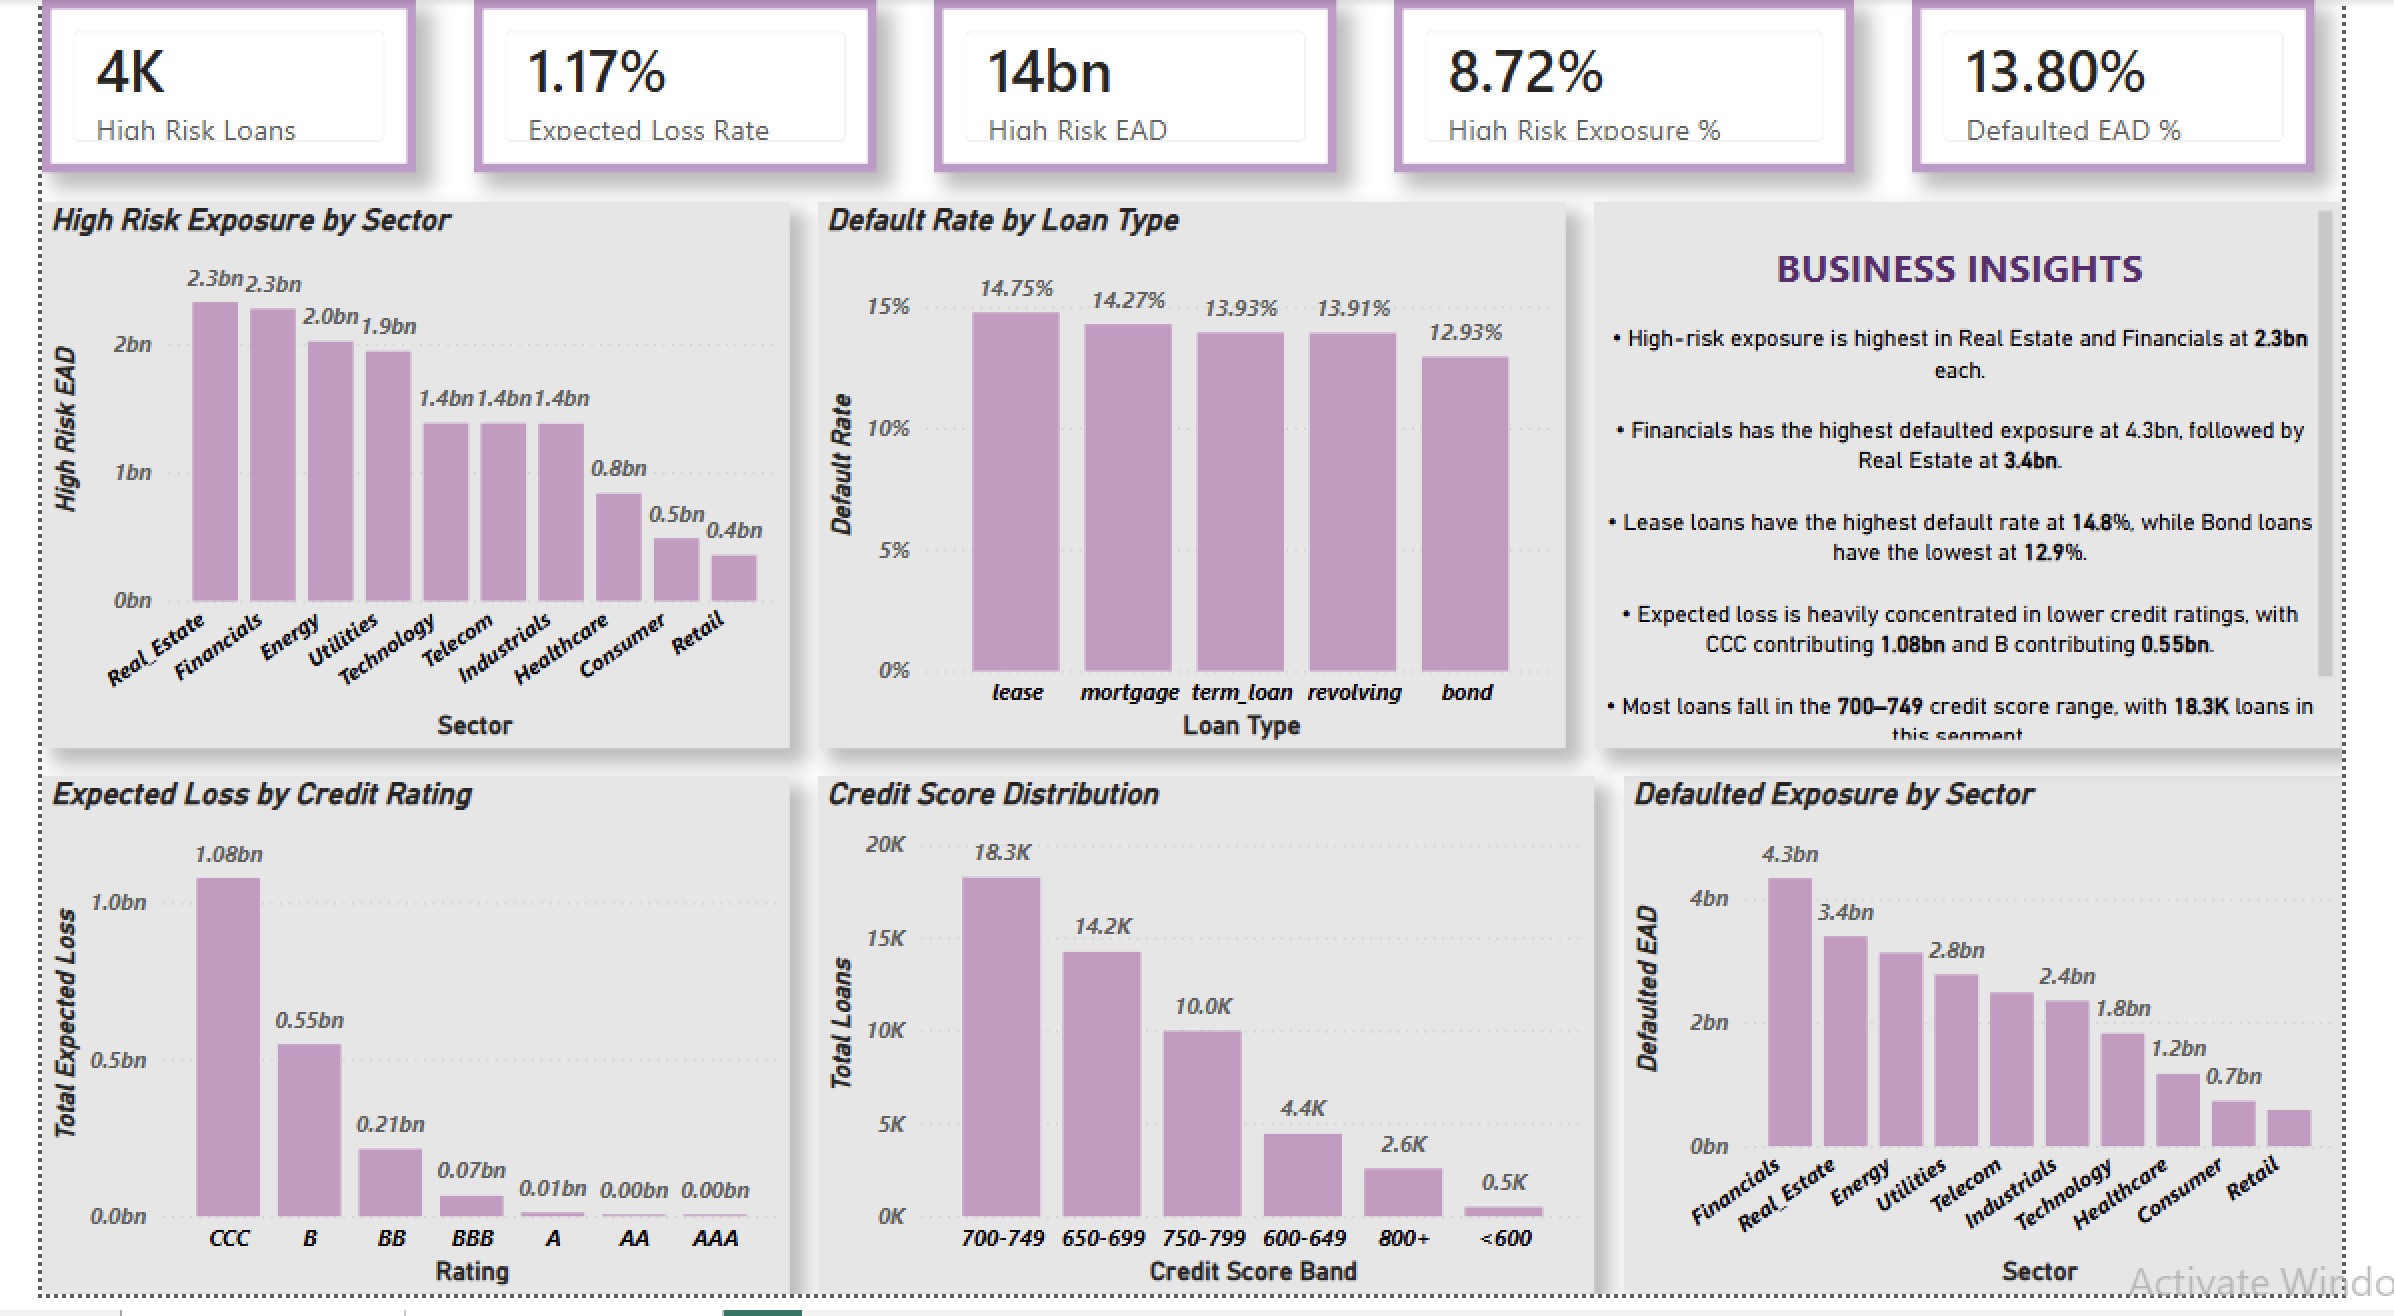

What the dashboard file says about the page in this screenshot:
{"tool":"powerbi","page":{"name":"Credit Risk Deep Dive","canvas":[1280,720],"ordinal":1},"visuals":[{"type":"cardVisual","fields":{"Data":["loan_portfolio.High Risk Loans"]},"box":[0,0,208,96],"z":0},{"type":"cardVisual","fields":{"Data":["loan_portfolio.High Risk EDA"]},"box":[496,0,224,96],"z":1},{"type":"cardVisual","fields":{"Data":["loan_portfolio.High Risk Exposure %"]},"box":[752,0,256,96],"z":2},{"type":"cardVisual","fields":{"Data":["loan_portfolio.Defaulted EDA %"]},"box":[1040,0,224,96],"z":3},{"type":"cardVisual","fields":{"Data":["loan_portfolio.Expected Loss Rate"]},"box":[240,0,224,96],"z":4},{"type":"clusteredColumnChart","title":"High Risk Exposure by Sector","fields":{"Category":["DimSector.Sector"],"Y":["loan_portfolio.High Risk EDA"]},"box":[0,112,416,304],"z":5},{"type":"clusteredColumnChart","fields":{"Category":["DimLoanType.Loan Type"],"Y":["loan_portfolio.Default Rate"]},"box":[432,112,416,304],"z":6},{"type":"clusteredColumnChart","title":"Expected Loss by Credit Rating","fields":{"Category":["DimRating.Rating"],"Y":["loan_portfolio.Total Expected Loss"]},"box":[0,432,416,288],"z":7},{"type":"columnChart","title":"Credit Score Distribution","fields":{"Category":["loan_portfolio.Credit Score Band"],"Y":["loan_portfolio.Total Loans"]},"box":[432,432,432,288],"z":8},{"type":"clusteredColumnChart","title":"Defaulted Exposure by Sector","fields":{"Category":["DimSector.Sector"],"Y":["loan_portfolio.Defaulted EDA"]},"box":[880,432,400,288],"z":11},{"type":"textbox","box":[864,112,416,304],"z":12}]}

Visuals, with their boxes in screenshot pixels (x1, y1, x2, y2), scaled from the page's 1280x720 canvas onto the 2394x1316 screenshot:
cardVisual - loan_portfolio.High Risk Loans: [0, 0, 389, 175]
cardVisual - loan_portfolio.High Risk EDA: [928, 0, 1347, 175]
cardVisual - loan_portfolio.High Risk Exposure %: [1406, 0, 1885, 175]
cardVisual - loan_portfolio.Defaulted EDA %: [1945, 0, 2364, 175]
cardVisual - loan_portfolio.Expected Loss Rate: [449, 0, 868, 175]
"High Risk Exposure by Sector" clusteredColumnChart: [0, 205, 778, 760]
clusteredColumnChart - DimLoanType.Loan Type x loan_portfolio.Default Rate: [808, 205, 1586, 760]
"Expected Loss by Credit Rating" clusteredColumnChart: [0, 790, 778, 1315]
"Credit Score Distribution" columnChart: [808, 790, 1616, 1315]
"Defaulted Exposure by Sector" clusteredColumnChart: [1646, 790, 2393, 1315]
textbox: [1616, 205, 2393, 760]
